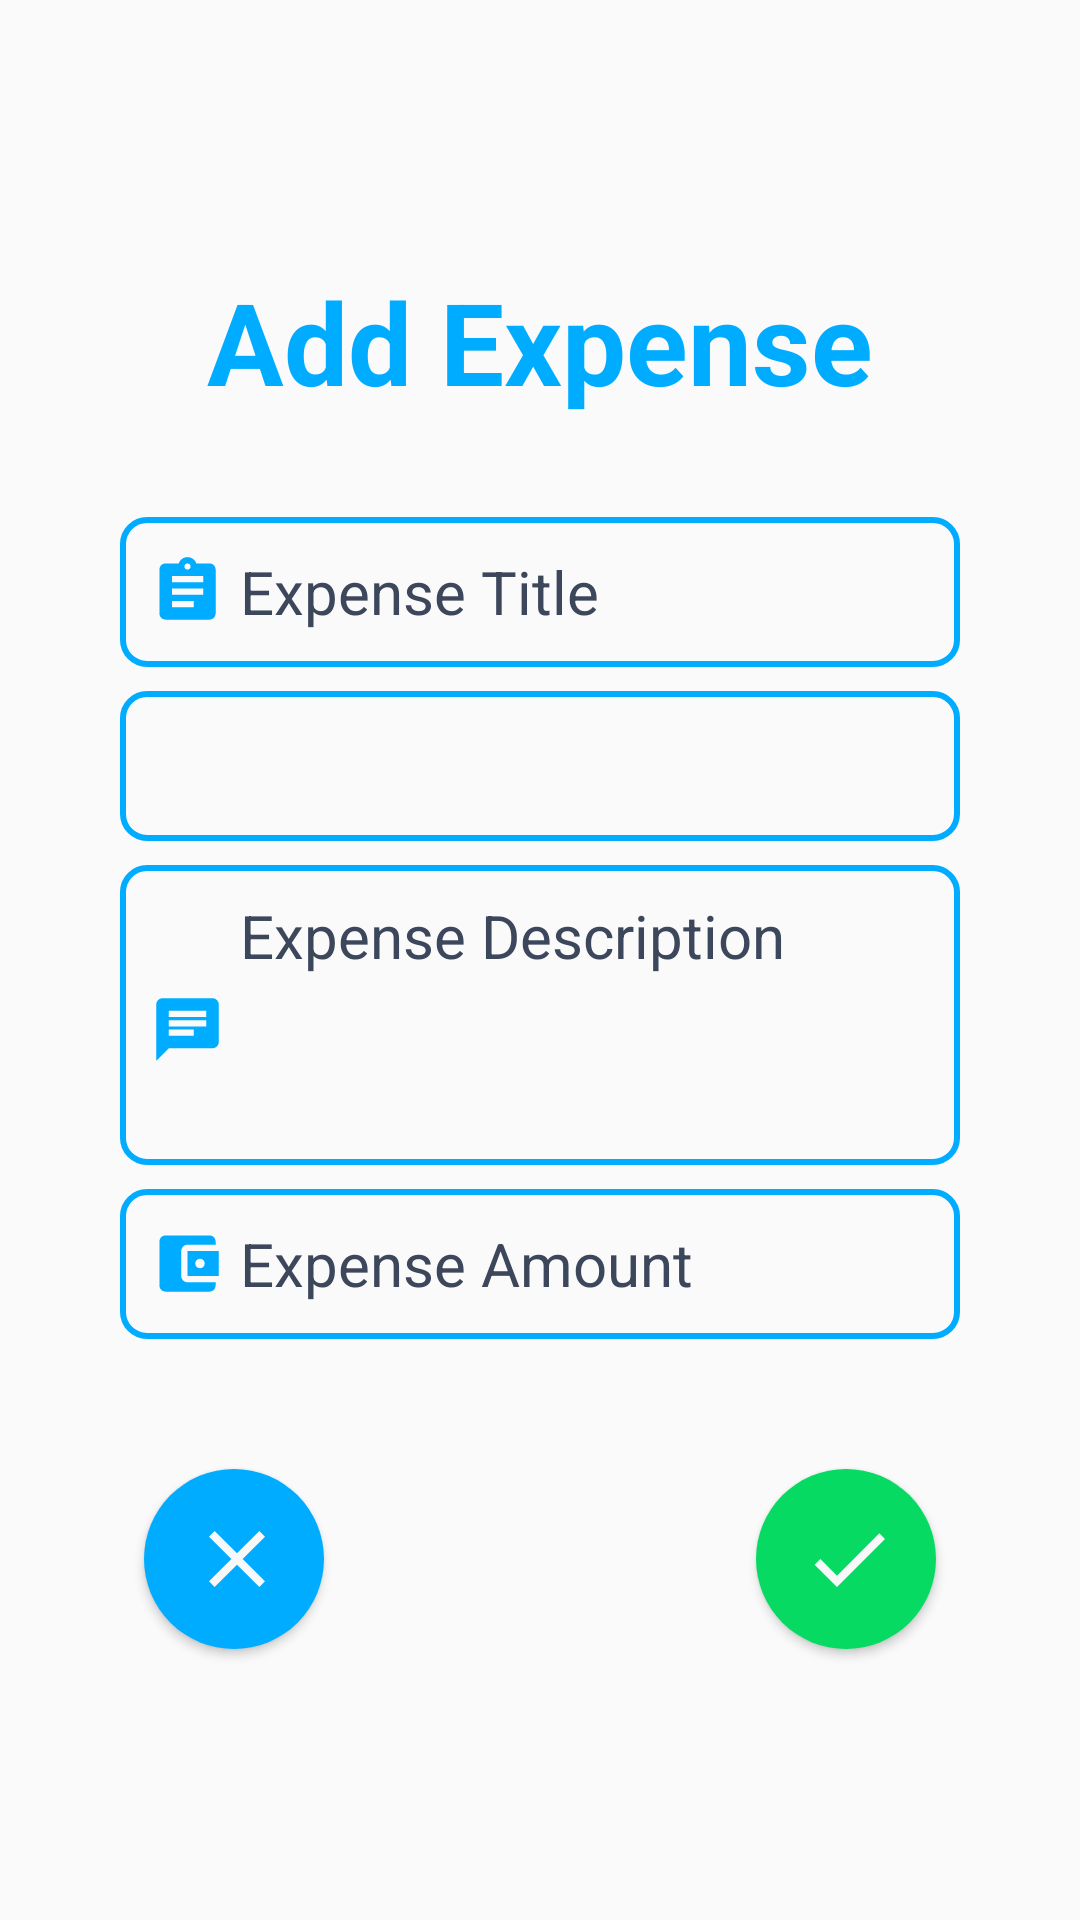

Where icons sit on this 1080*1920 app screen, as [x1=x1, y1=y1, x2=x2, y2=y2]:
clearbtn: [x1=144, y1=1469, x2=324, y2=1649]
rightbtn: [x1=756, y1=1469, x2=936, y2=1649]
